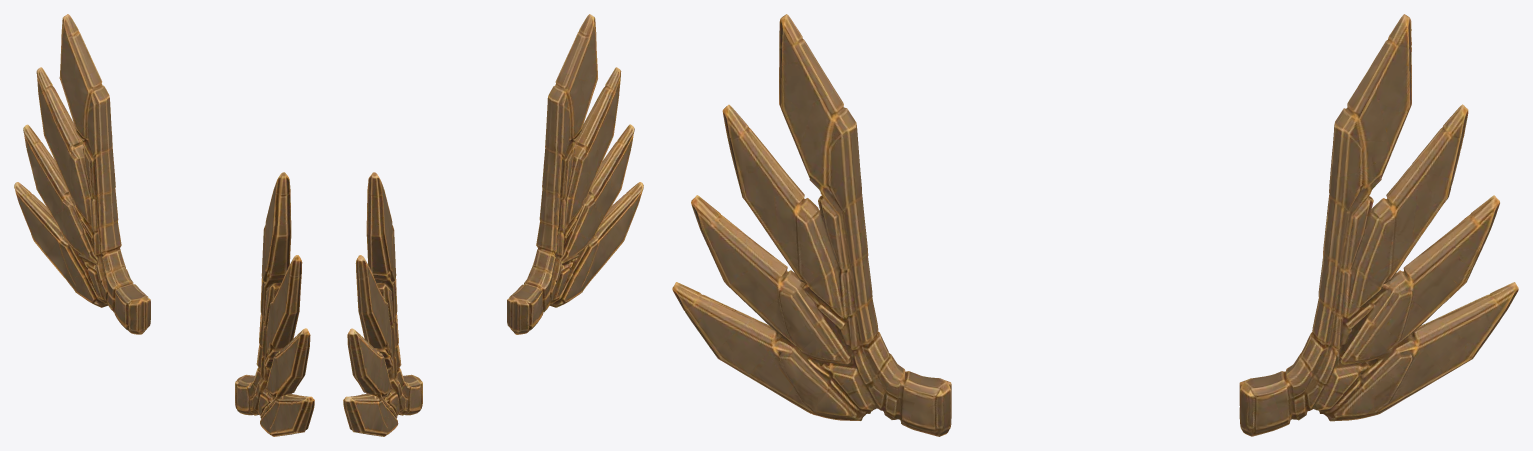
The model's file is rank-5-rich-512.glb.
3 renders of one model, left to right at view 1: azimuth 30°, elevation 25°; view 2: azimuth 150°, elevation 25°; view 3: azimuth 270°, elevation 25°, orthographic. The views are drawn at different scales.
Visible parts, largest first — view 1: chassis; view 2: chassis; view 3: chassis.
Part boxes in pixels (x1,y1,x2,y2): chassis: [14, 14, 314, 436]; chassis: [343, 14, 643, 436]; chassis: [672, 14, 1518, 436].
Bounding box in the file's own units: 0.0844 × 0.4984 × 0.9398.
Materials: 1 (1 with a texture image).
